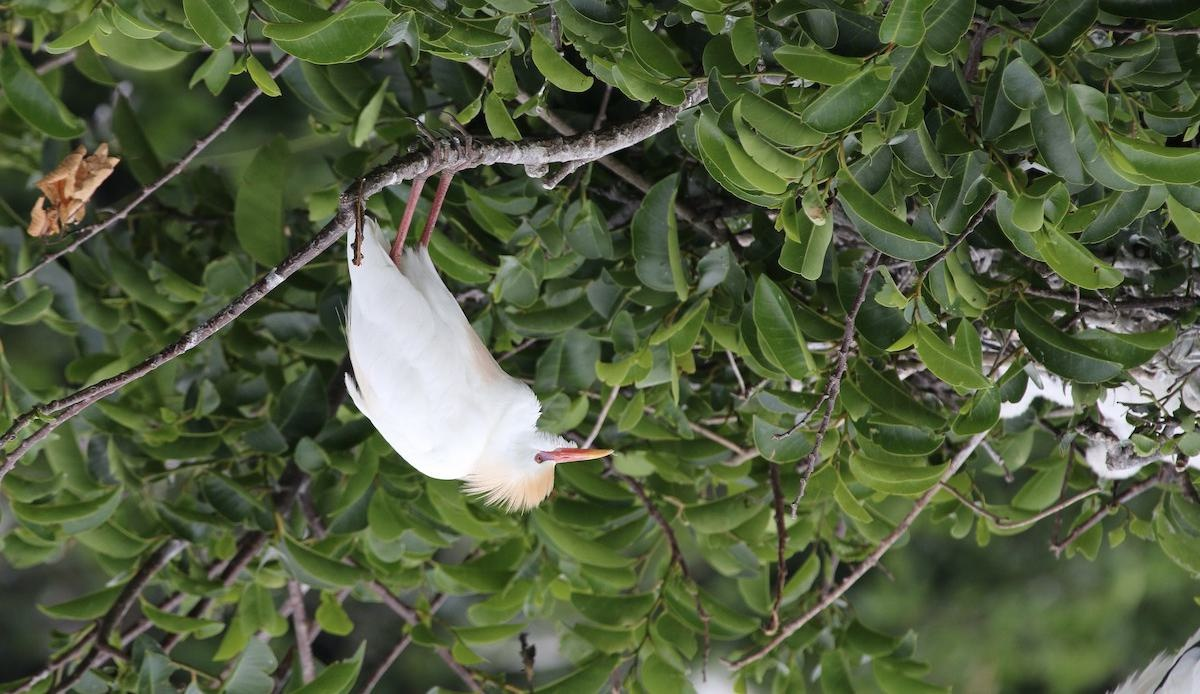egret: (311, 166, 631, 526)
